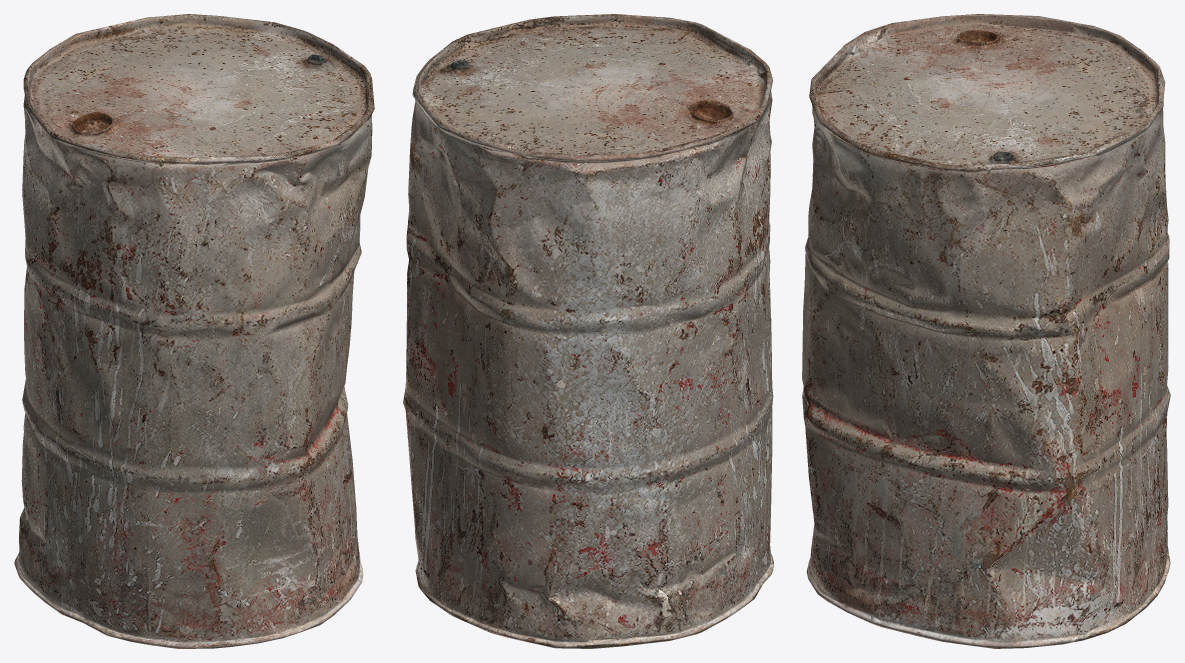
Rendered from SM_Ind_Fac_Container_Drum_Metal_Worn_01.gltf.
3 renders of one model, left to right at view 1: azimuth 30°, elevation 25°; view 2: azimuth 150°, elevation 25°; view 3: azimuth 270°, elevation 25°, orthographic.
Parts seen in each view (by area): view 1: SM_Ind_Fac_Container_Drum_Metal_Worn_01; view 2: SM_Ind_Fac_Container_Drum_Metal_Worn_01; view 3: SM_Ind_Fac_Container_Drum_Metal_Worn_01.
Boxes of the visible parts, left/top/right/bottom form: SM_Ind_Fac_Container_Drum_Metal_Worn_01: left=14, top=14, right=374, bottom=648; SM_Ind_Fac_Container_Drum_Metal_Worn_01: left=403, top=14, right=773, bottom=648; SM_Ind_Fac_Container_Drum_Metal_Worn_01: left=802, top=14, right=1170, bottom=648.
Size of the model in its own units: 0.5826 by 0.8817 by 0.5977.
1 material, 1 textured.
